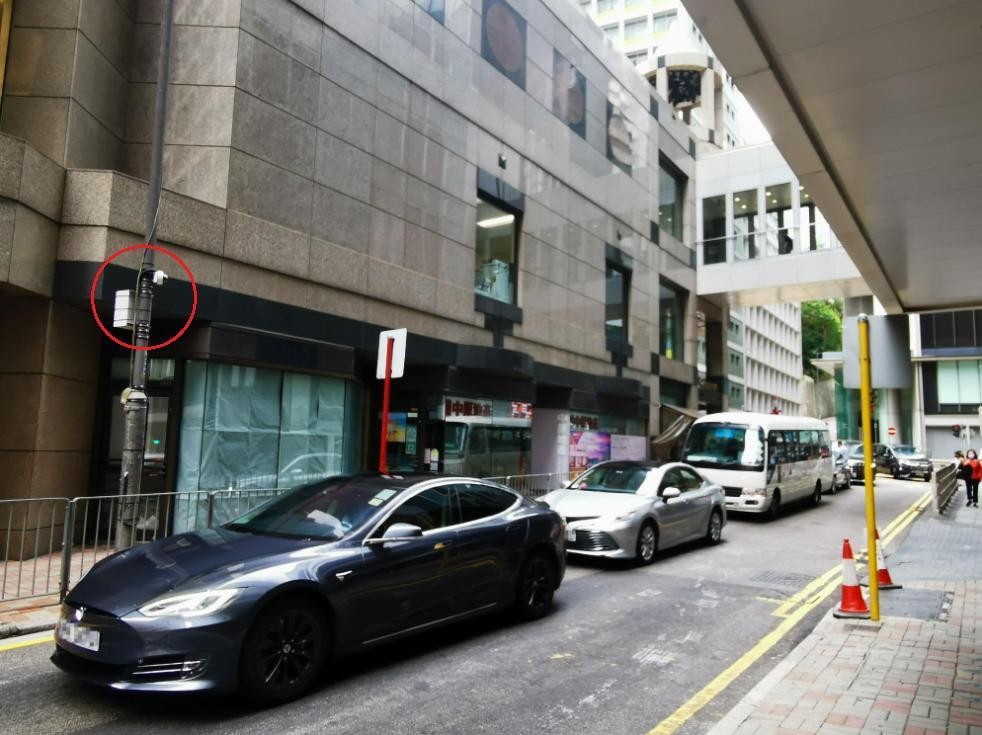Monitor: (141, 259, 174, 303)
